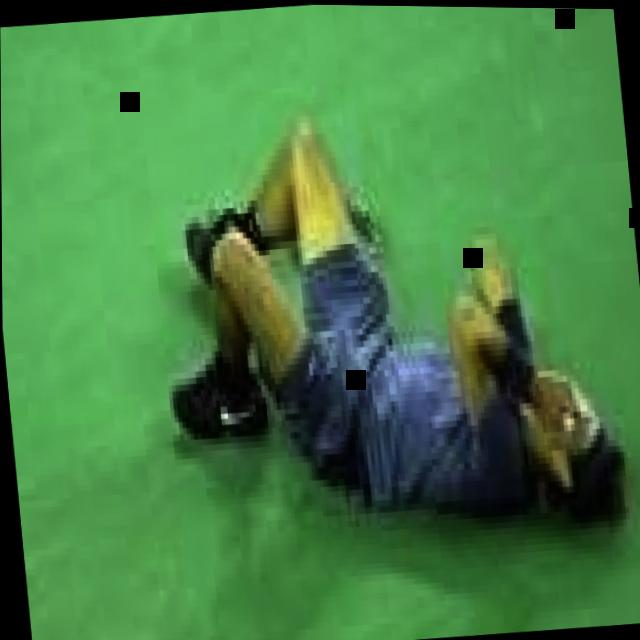Fall-Detected: (137, 63, 640, 556)
